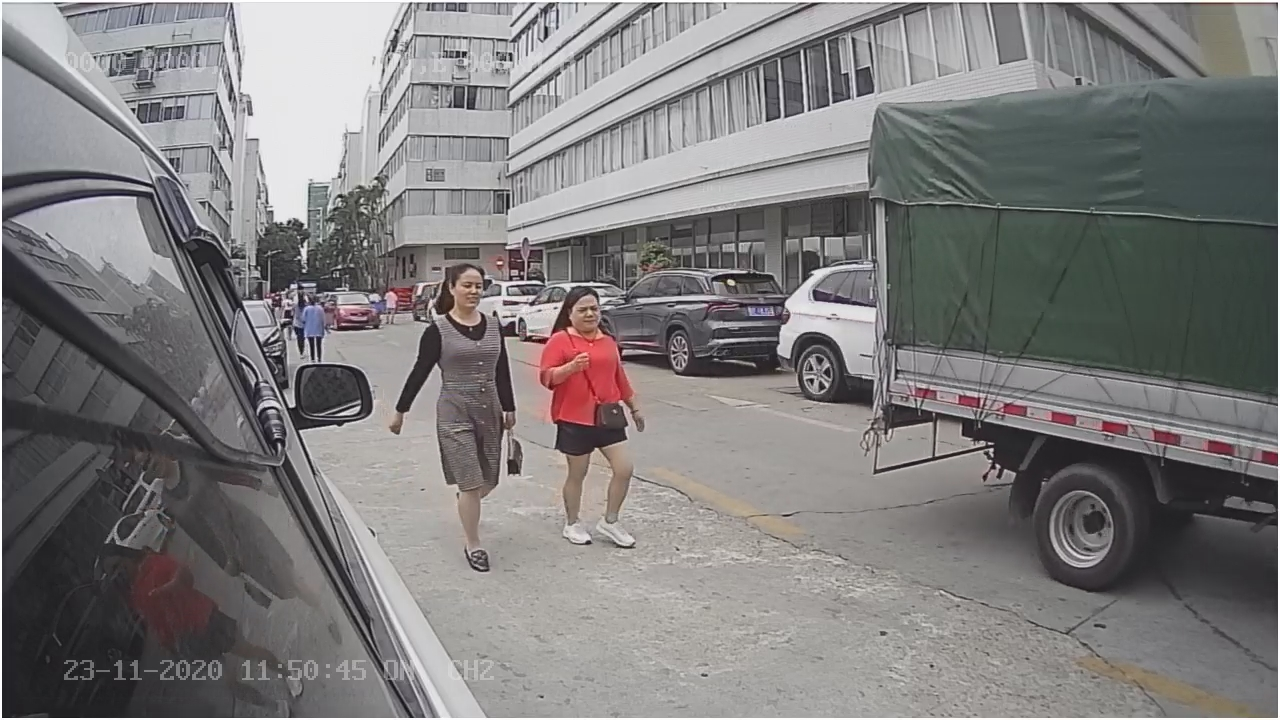person: (386, 250, 516, 571), (540, 282, 663, 551)
